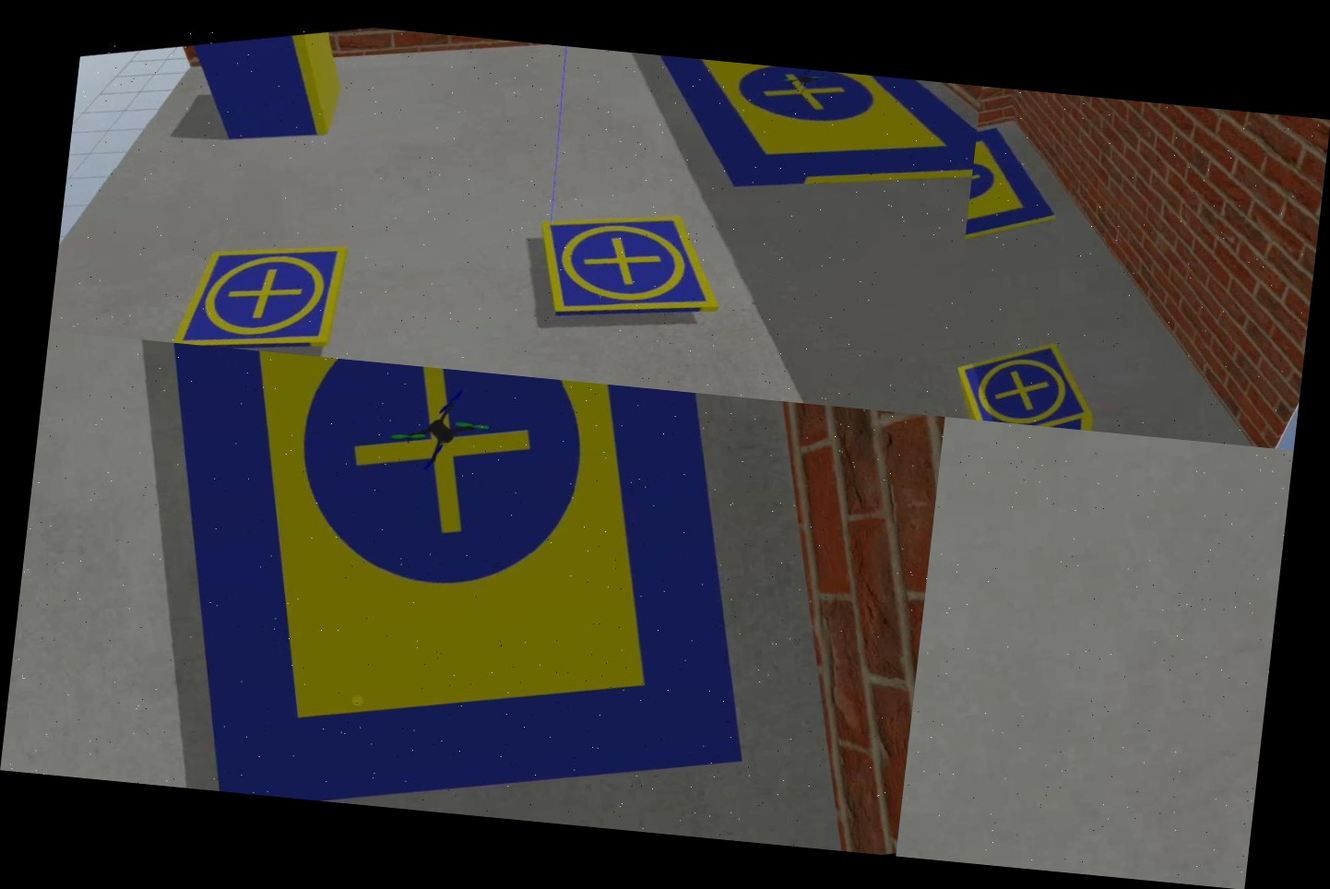large_base: (106, 341, 784, 840), (632, 54, 982, 235), (963, 121, 1068, 262)
small_base: (523, 187, 731, 347), (152, 222, 371, 361), (946, 326, 1110, 432)
